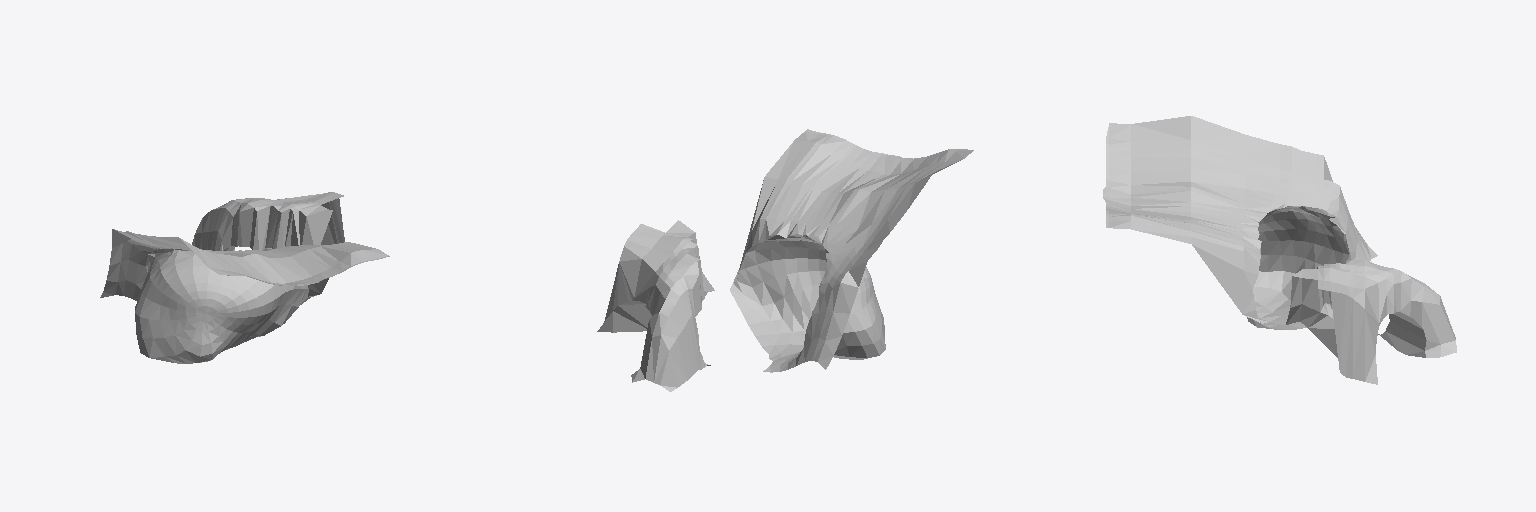
File: Caves.obj
3 renders of one model, left to right at view 1: azimuth 30°, elevation 25°; view 2: azimuth 150°, elevation 25°; view 3: azimuth 270°, elevation 25°, orthographic.
Parts seen in each view (by area): view 1: Level2:polySurface2 polySurface4 polySurface1, polySurface2 Level2:polySurface2; view 2: Level2:polySurface2 polySurface4 polySurface1, polySurface2 Level2:polySurface2; view 3: Level2:polySurface2 polySurface4 polySurface1, polySurface2 Level2:polySurface2.
Part boxes in pixels (left/top/right/bottom): Level2:polySurface2 polySurface4 polySurface1: left=100, top=229, right=389, bottom=363; polySurface2 Level2:polySurface2: left=192, top=192, right=344, bottom=250; Level2:polySurface2 polySurface4 polySurface1: left=730, top=129, right=973, bottom=372; polySurface2 Level2:polySurface2: left=597, top=220, right=714, bottom=391; Level2:polySurface2 polySurface4 polySurface1: left=1103, top=116, right=1377, bottom=329; polySurface2 Level2:polySurface2: left=1286, top=259, right=1456, bottom=384.
Bounding box in the file's own units: 94.51 × 60.04 × 119.